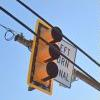traffic lights: (28, 20, 62, 94)
